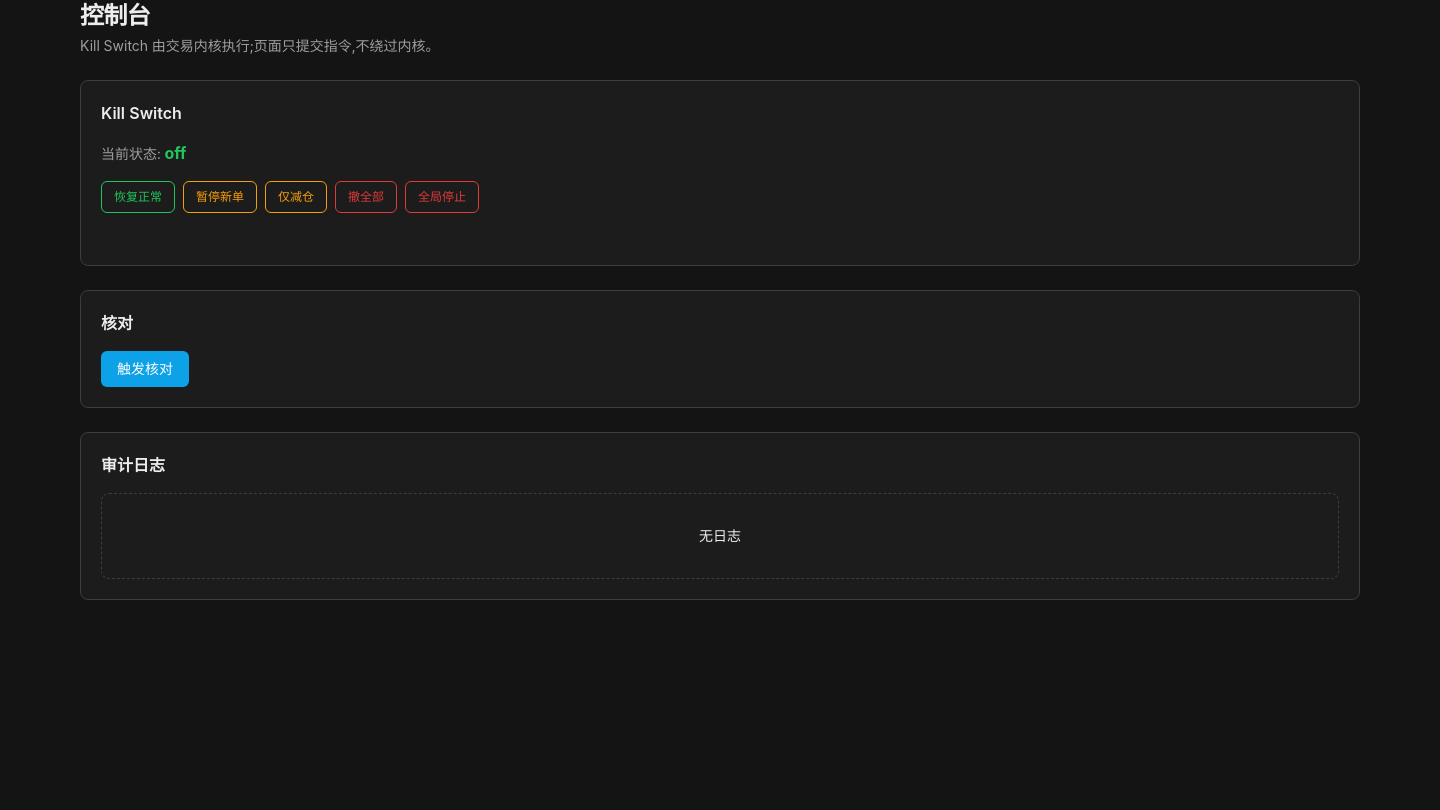
Test: Kill Switch 确认门 › 确认弹窗展示当前状态、目标状态、影响范围、恢复提示与原因输入
This screenshot has width=1440, height=810.
Expected: the text "off" is shown, [164,143,186,163]
Step 1. Click the button "全局停止" → click(442, 197), box [405,181,479,213]
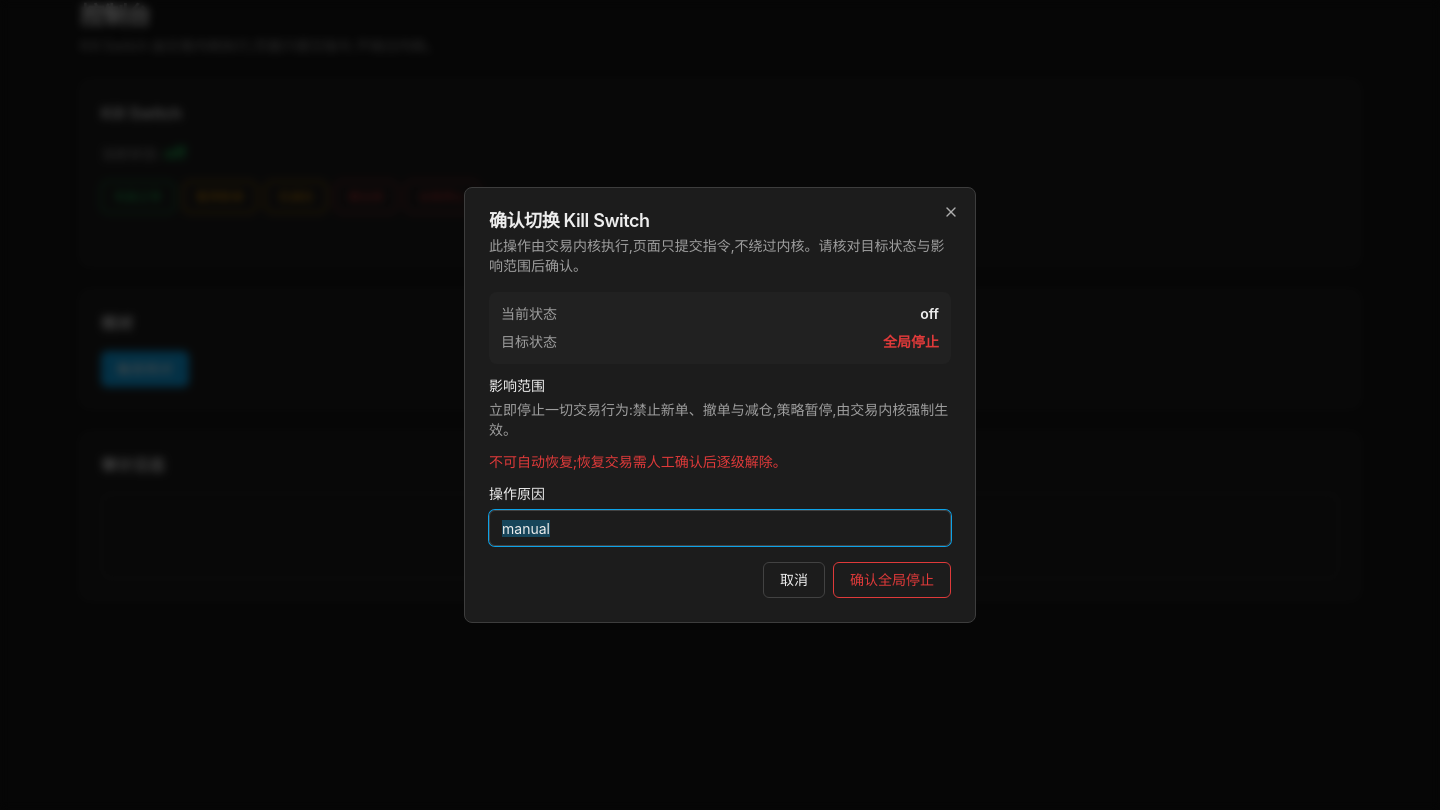
Expected: the text "当前状态" is shown, [501,304,557,324]
Expected: the text "off" is shown, [920,304,939,324]
Expected: the text "目标状态" is shown, [501,332,557,352]
